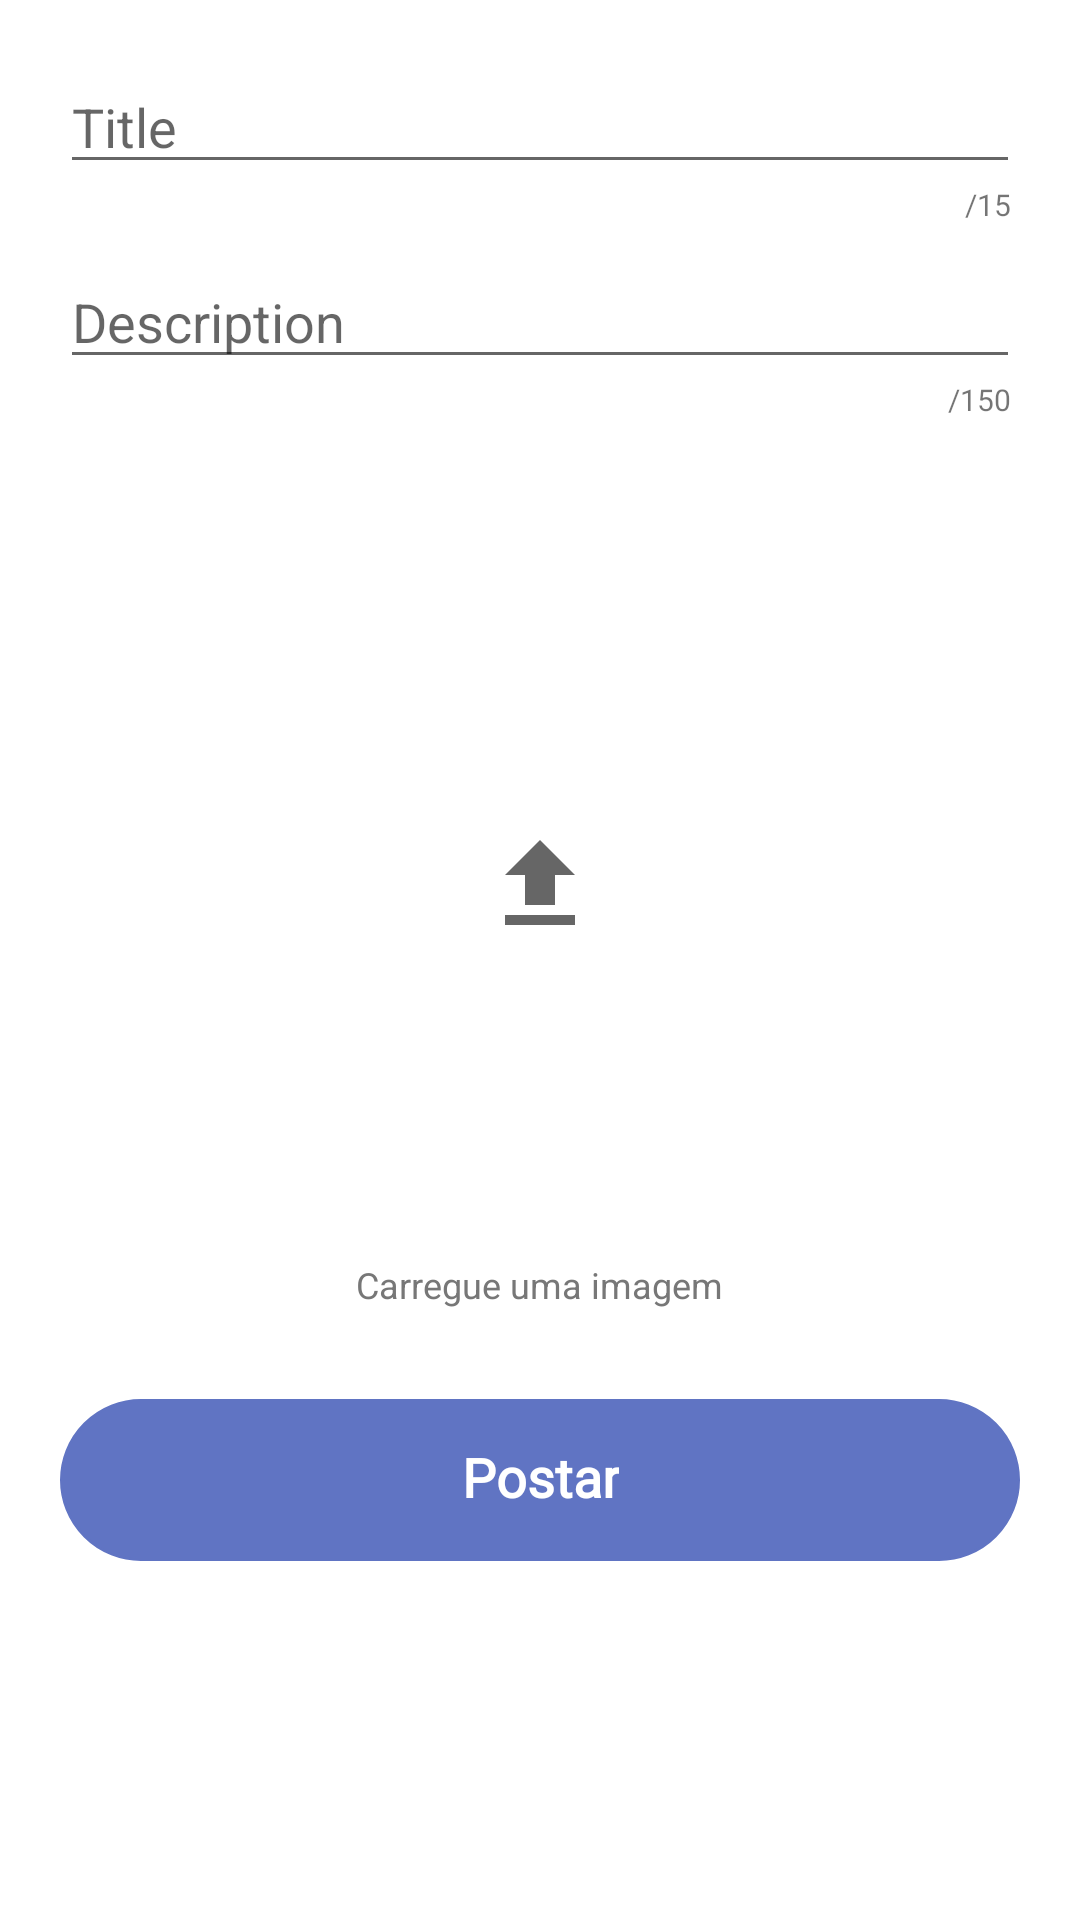

Icons on this 1080×1920 Android screen, each with the point to tap as [x,y]:
file upload: [540,882]
